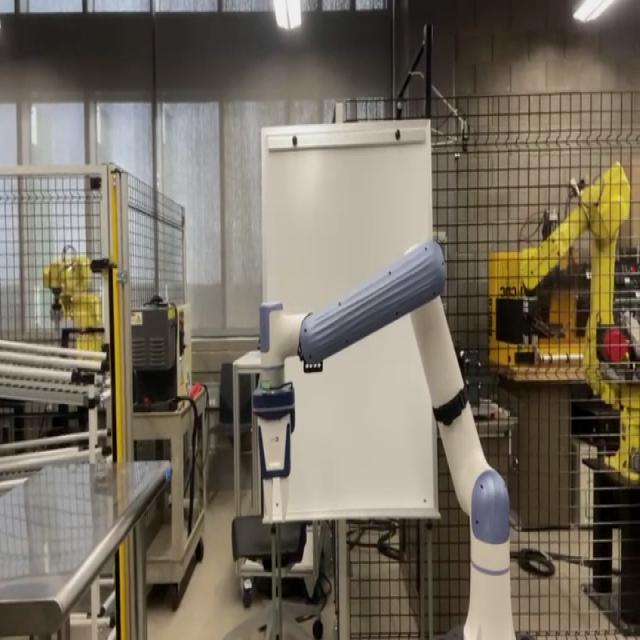robot: (235, 236, 520, 639)
